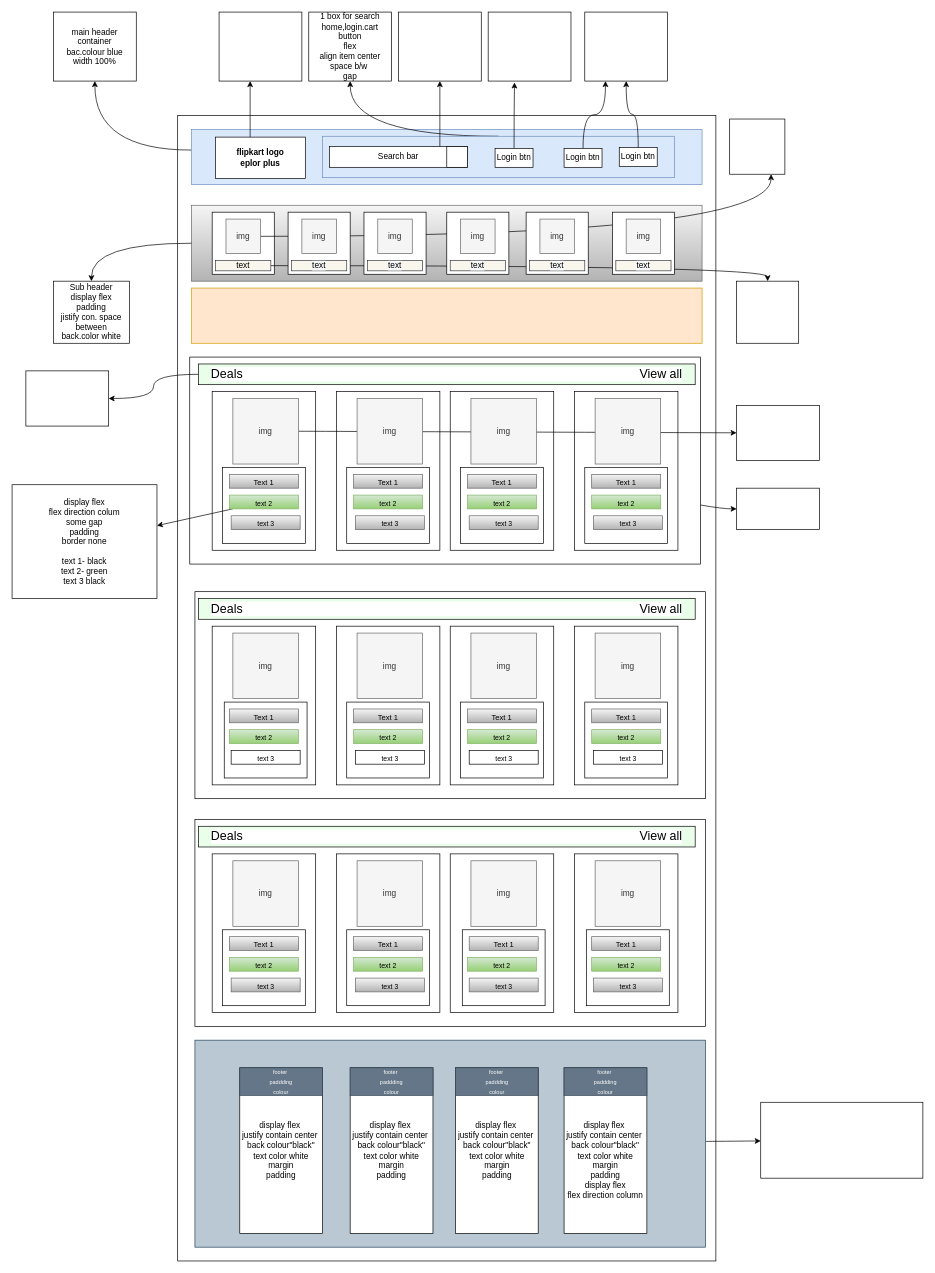
Some shapes in this 935 by 1273 pixel diagram are drawn without their labels. The shapes that lost their labels are listed below. From the top down, each one's box as (x1, y1, x2, y2) in pixels, then its label:
(218, 11, 302, 81): align item text deco.underline flex column paddinng & margin
(398, 11, 481, 81): placeholder outline none(search icon back. clr white,border none)
(487, 11, 571, 81): some padding bac.color white text colour blue
(584, 11, 668, 81): Text color white back.color blue
(446, 146, 467, 167): S.icon
(729, 118, 785, 174): for class img give height & width to look A like.
(191, 287, 702, 343): Banner image margin padding height width
(736, 280, 799, 343): for all class text display flex font size justify content center
(25, 370, 109, 426): Displey flex font weight bac.clr clr white
(736, 405, 819, 461): image height width margin top bottom
(736, 487, 819, 530): display flex margin top & bottom some padding
(760, 1102, 923, 1178): Footer secttion display flex padding justify contain space around
